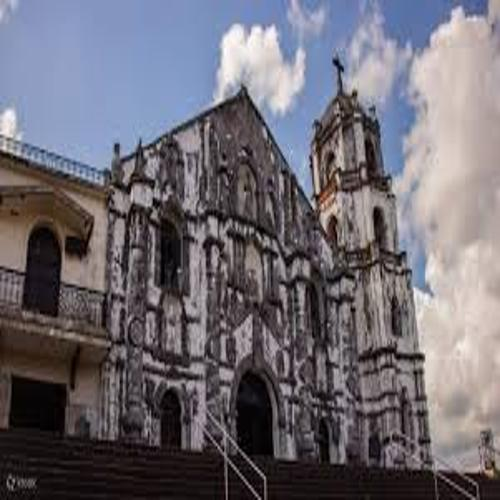Daraga Church: (100, 46, 434, 475)
